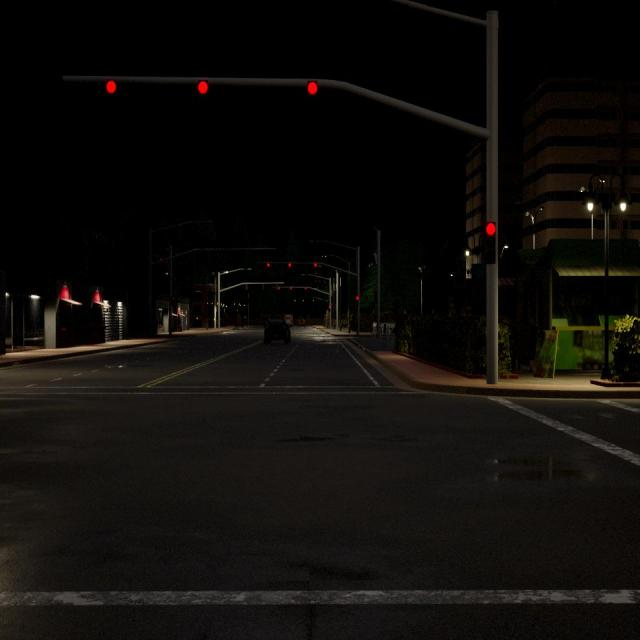Vehicle: (263, 320, 291, 344), (283, 314, 293, 327), (297, 318, 306, 327)
traffic_light: (482, 221, 496, 264), (105, 79, 116, 93), (307, 81, 318, 95), (198, 80, 208, 94), (355, 294, 359, 305), (288, 262, 292, 268), (267, 263, 270, 267), (277, 287, 280, 291), (289, 287, 292, 291), (304, 287, 307, 291), (314, 263, 317, 267), (329, 306, 330, 312), (294, 299, 296, 302), (302, 299, 304, 302), (312, 299, 314, 302), (166, 261, 168, 264), (160, 258, 161, 263), (162, 260, 163, 264)
